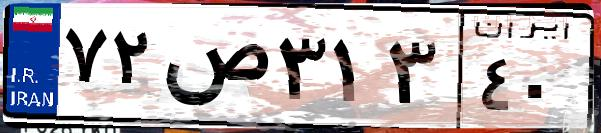0: (525, 38, 570, 115)
1: (330, 28, 385, 110)
2: (110, 28, 158, 98)
3: (270, 28, 330, 110), (385, 28, 445, 110)
4: (475, 38, 525, 113)
7: (57, 26, 110, 100)
ص: (158, 20, 270, 120)
